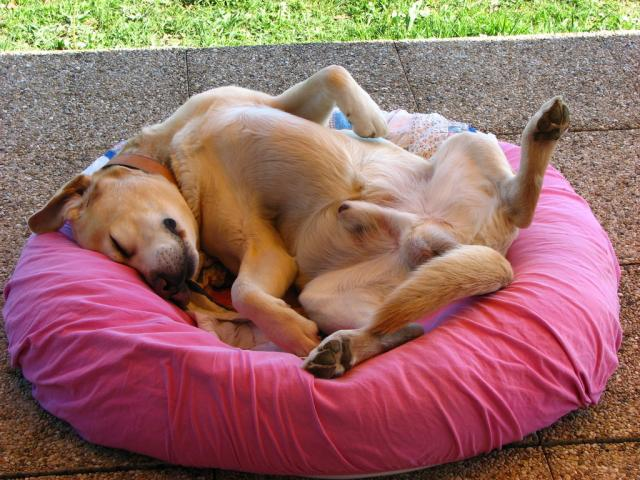Dog: (27, 65, 570, 380)
